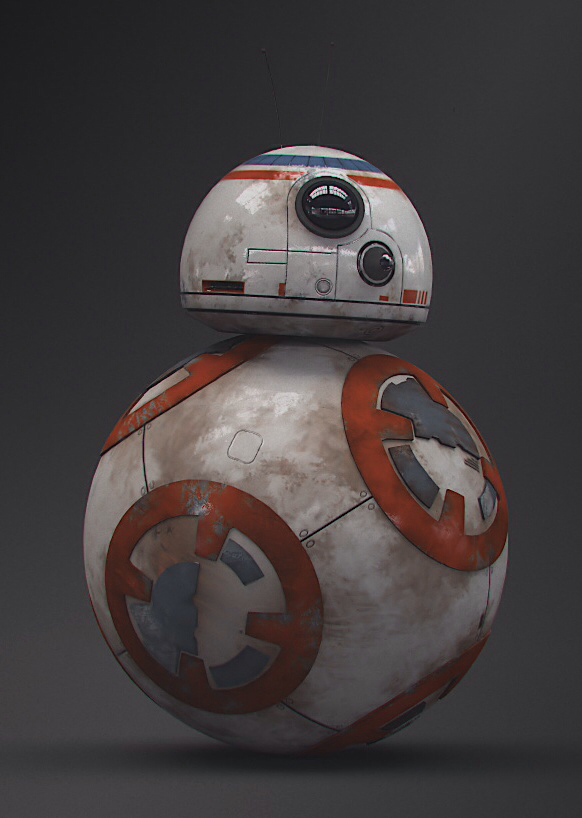bb8: (81, 145, 509, 757)
